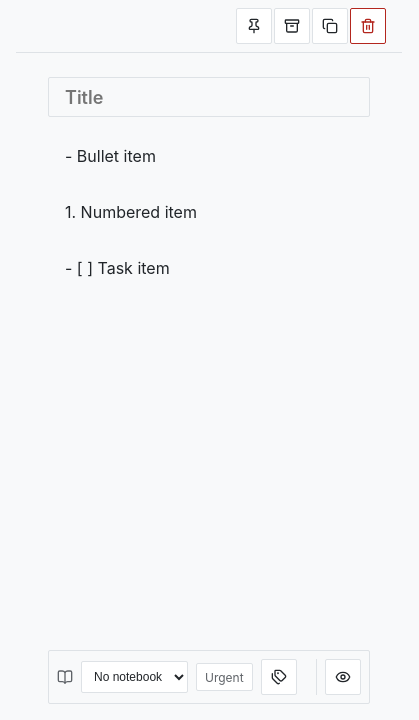
Test case: shared note composer experience › places the title above the note and keeps details always visible below it
Expected: the field named "Note title" is shown, [48, 77, 370, 117]
Expected: the element with class "note-composer-details-row" is shown, [49, 651, 369, 703]
Click the button named "Show preview".
click(343, 677)  # box [325, 659, 361, 695]
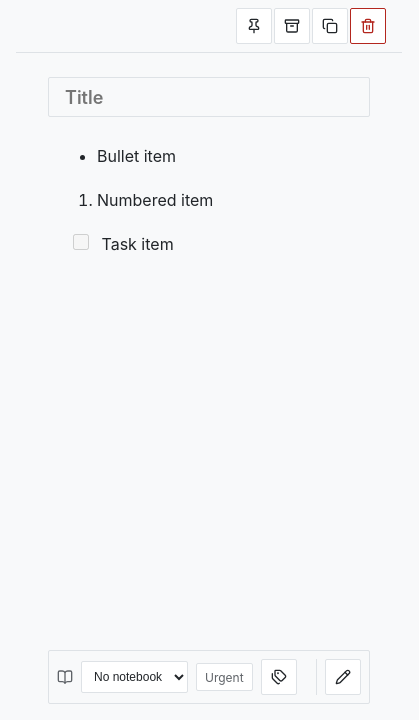
Result: the list "Bullet item" is shown at [97, 146, 176, 166]
Result: the list "Numbered item" is shown at [97, 190, 213, 210]
Result: the list with class "contains-task-list" is shown at [73, 234, 174, 254]
